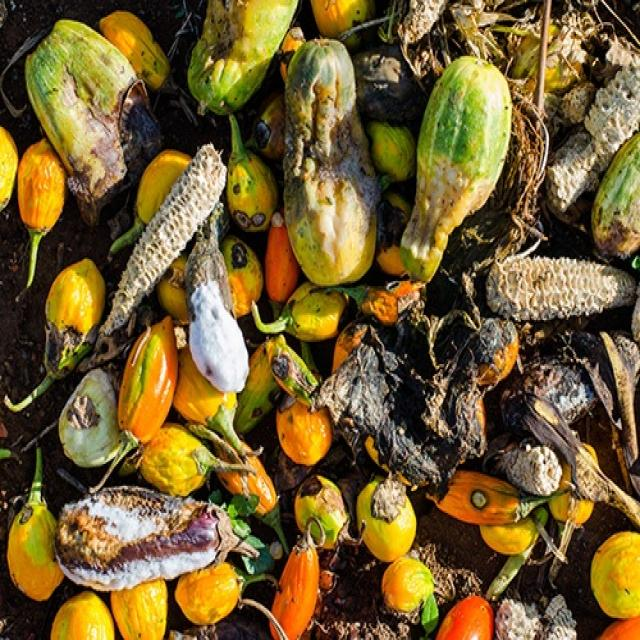food_waste: (47, 69, 603, 622)
